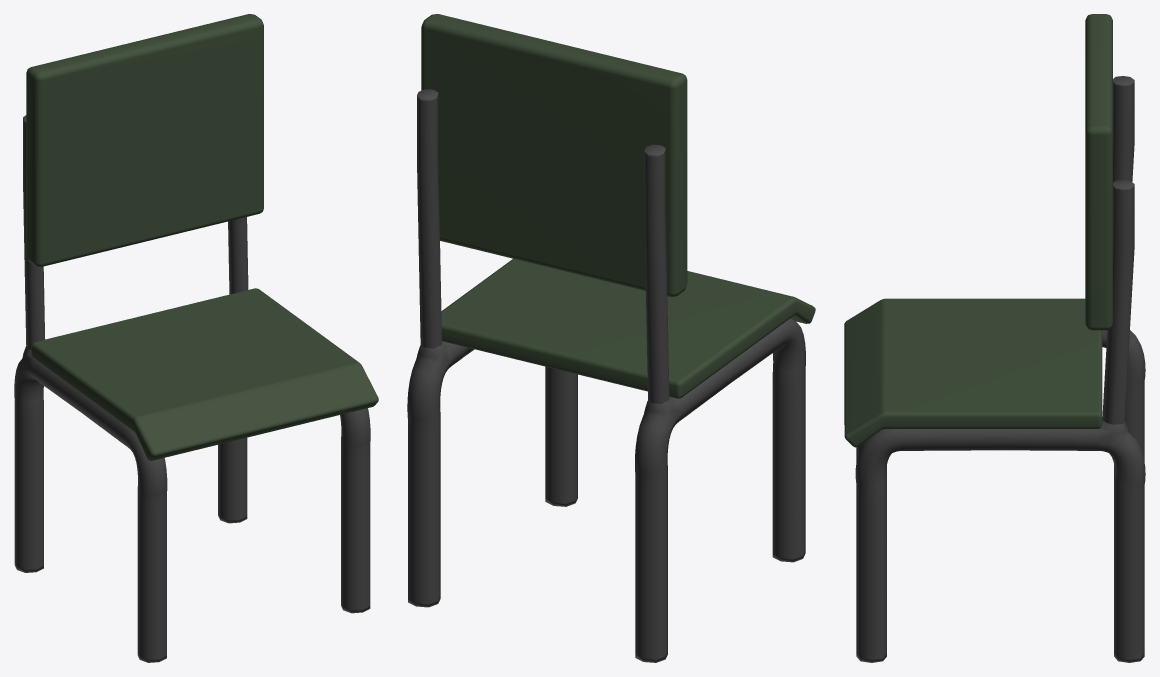
The model's file is school chair 05.fbx.
The picture shows the model from 3 angles, left to right: view 1: azimuth 30°, elevation 25°; view 2: azimuth 150°, elevation 25°; view 3: azimuth 270°, elevation 25°; orthographic projection. The views are drawn at different scales.
Parts seen in each view (by area): view 1: school_chair; view 2: school_chair; view 3: school_chair.
Boxes of the visible parts, box(x1,y1,x2,y2) form: school_chair: box(14, 14, 378, 662); school_chair: box(407, 14, 815, 662); school_chair: box(844, 14, 1145, 662).
Size of the model in its own units: 1.38 by 2.92 by 1.49.
